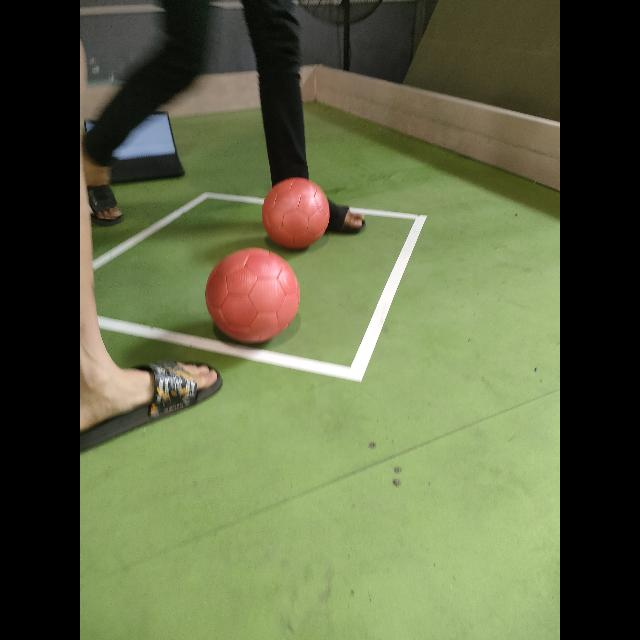R: (205, 248, 299, 342), (262, 178, 330, 248)
